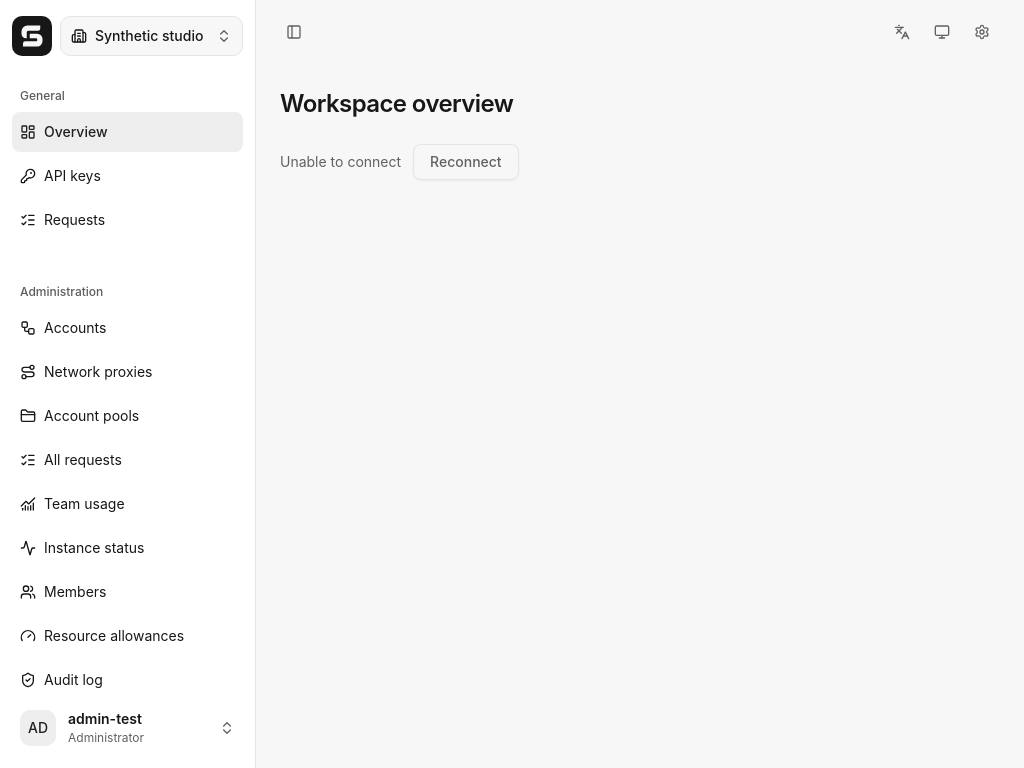
Test: shows a failed connection and allows recovery
Expected: the message "Unable to connect Reconnect" is shown, [280, 144, 519, 180]
Click the button "Reconnect" at coordinates (466, 162), box [413, 144, 519, 180]
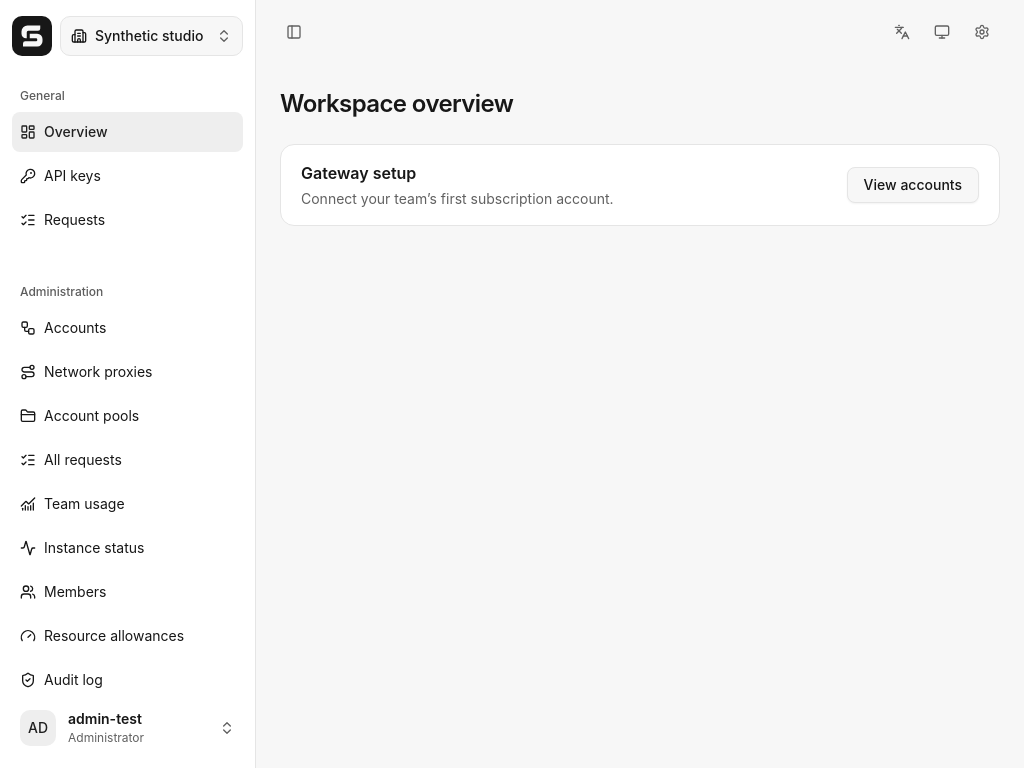
Expected: the heading "Gateway setup" is shown, [301, 163, 416, 183]
